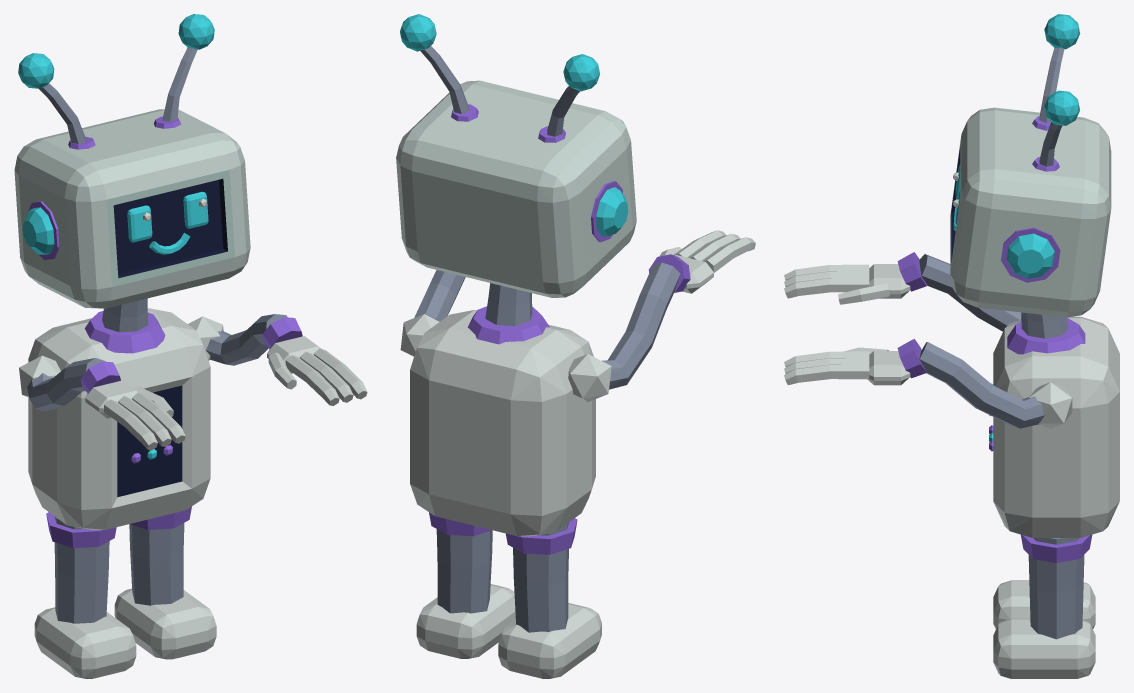
File: city-robot-peek-1.glb
The picture shows the model from 3 angles, left to right: view 1: azimuth 30°, elevation 25°; view 2: azimuth 150°, elevation 25°; view 3: azimuth 270°, elevation 25°; orthographic projection. The views are drawn at different scales.
Parts seen in each view (by area): view 1: CityRobot1; view 2: CityRobot1; view 3: CityRobot1.
Boxes of the visible parts, x1,y1,x2,y2 form: CityRobot1: [14, 14, 367, 678]; CityRobot1: [396, 14, 755, 678]; CityRobot1: [784, 14, 1119, 678].
Bounding box in the file's own units: 0.85 × 2.19 × 1.11.
